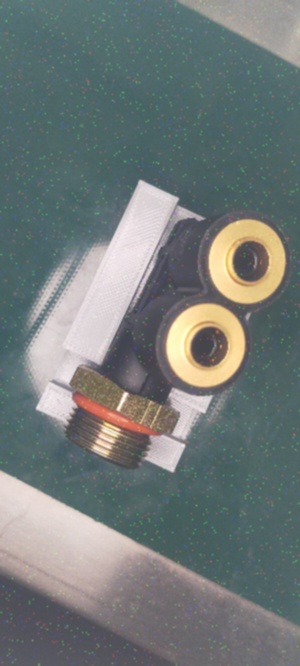craze: (137, 367, 154, 396)
